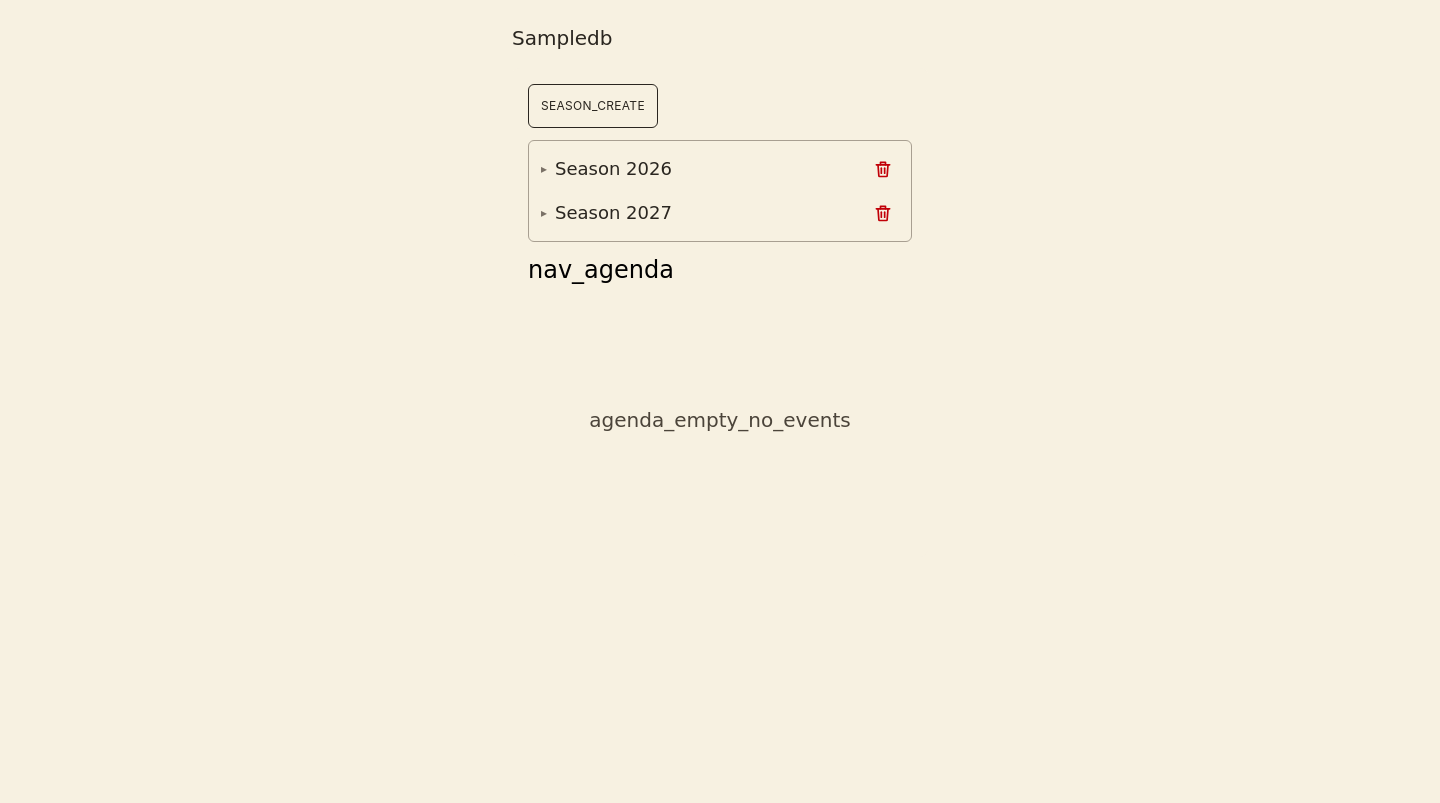
Scenario: season card #277 — one entry per manageable season, not a picker › with the panel OPEN for one season the OTHER season’s entry stays reachable — the panel names its season while more than one is manageable (criterion 2)
Click the button with test id "season-card-expand".
click(694, 169)  # box [535, 147, 853, 191]
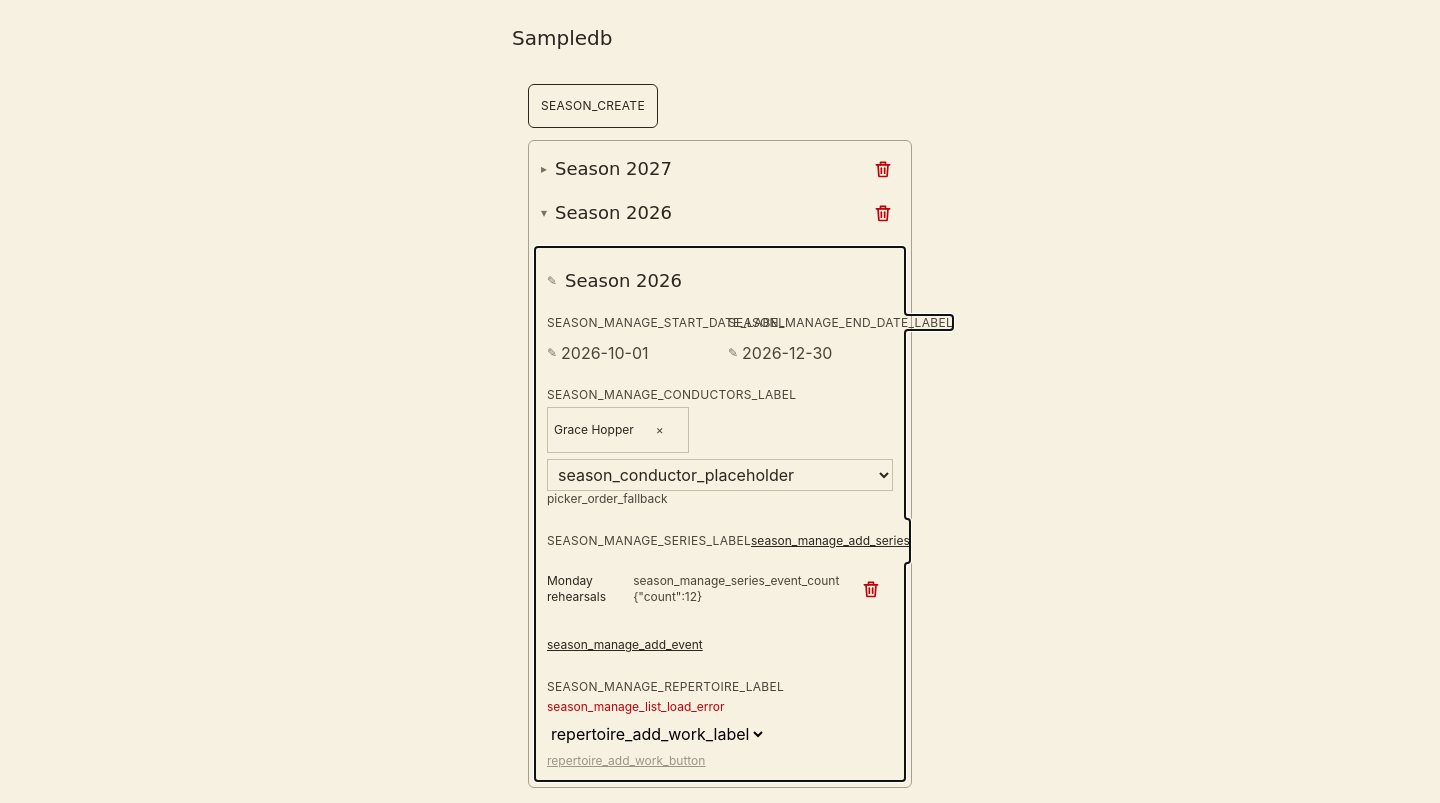
Expected: the 1st text "Season 2026" is shown, [555, 199, 672, 227]
